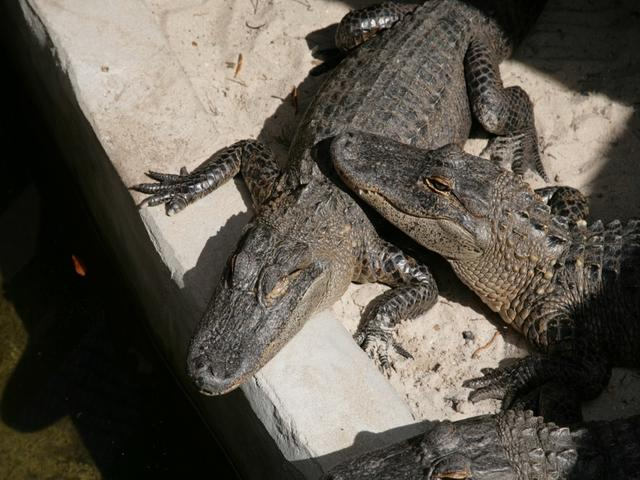crocodile: (118, 1, 516, 407), (357, 71, 640, 377)
